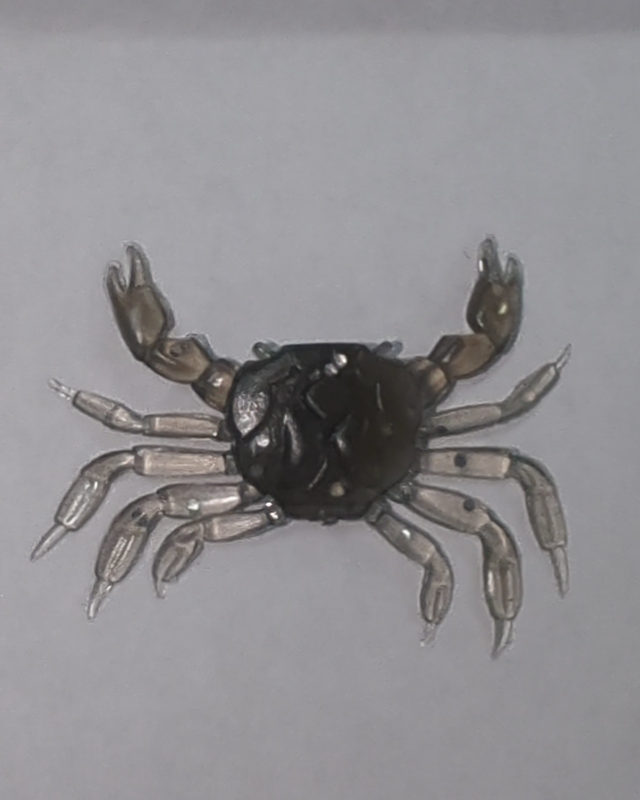crab1: (31, 235, 577, 663)
